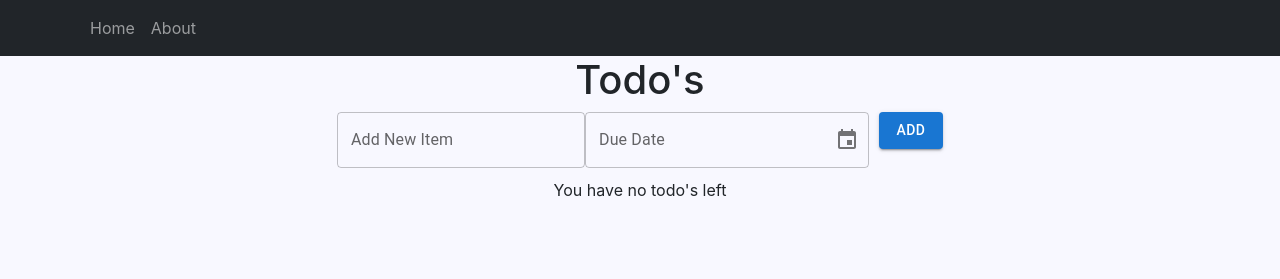
Test case: test that App component can be deleted thru checkbox
Type "take out the trash" into the field labelled "Add New Item".
click(461, 140); type("take out the trash")  # box x1=337 y1=112 x2=585 y2=168
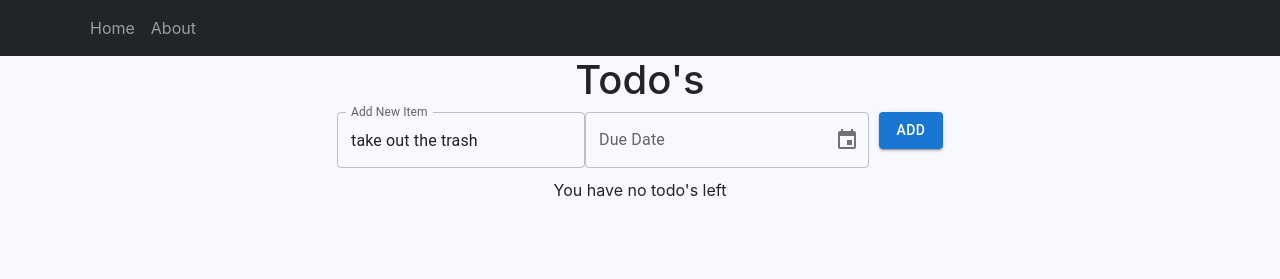
Type "05/30/2023" into the field with placeholder "mm/dd/yyyy".
click(702, 140); type("05/30/2023")  # box x1=585 y1=112 x2=819 y2=168
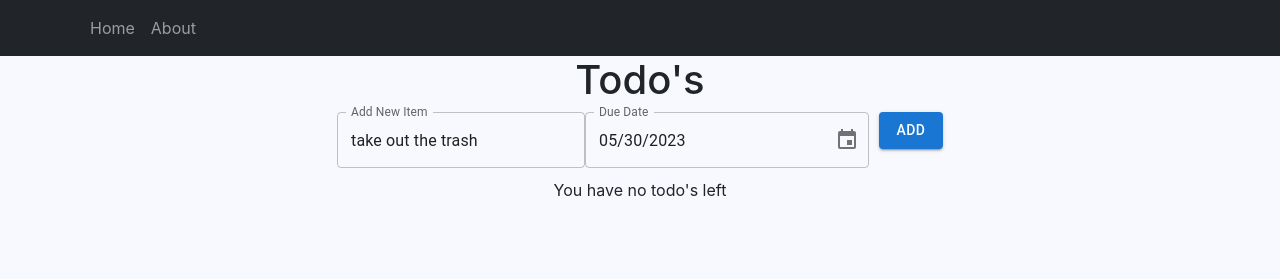
Click the button "Add".
click(911, 130)  # box x1=879 y1=112 x2=943 y2=148
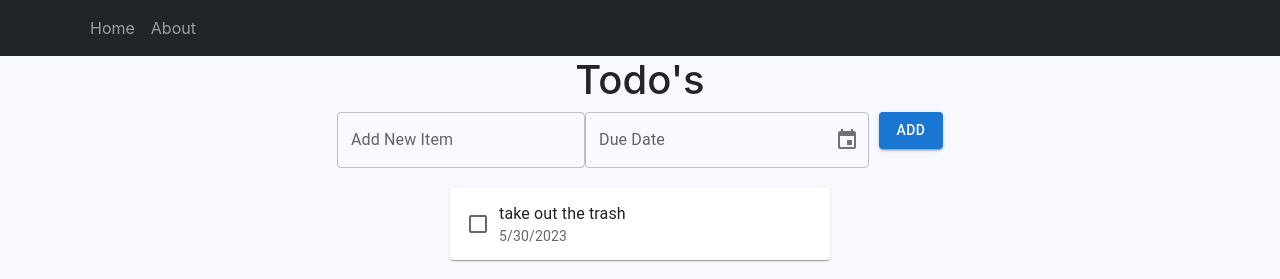
Now the text "take out the trash" is shown, box x1=499 y1=204 x2=626 y2=223
Click the checkbox.
click(478, 224)  # box x1=466 y1=212 x2=490 y2=236
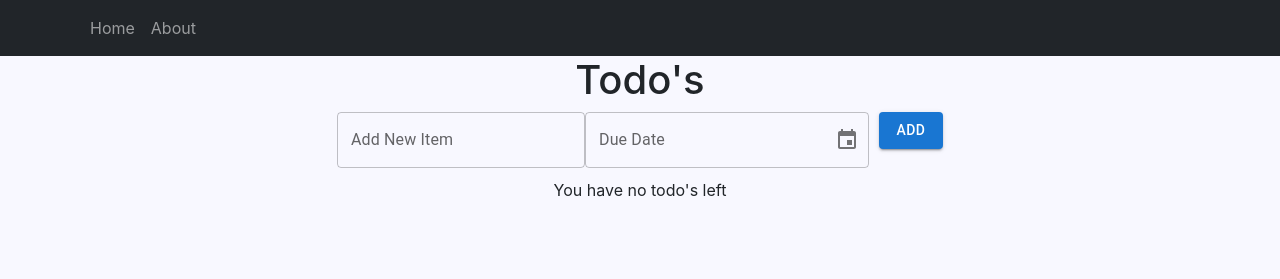
Now the text "You have no todo's left" is shown, box x1=554 y1=180 x2=726 y2=200
